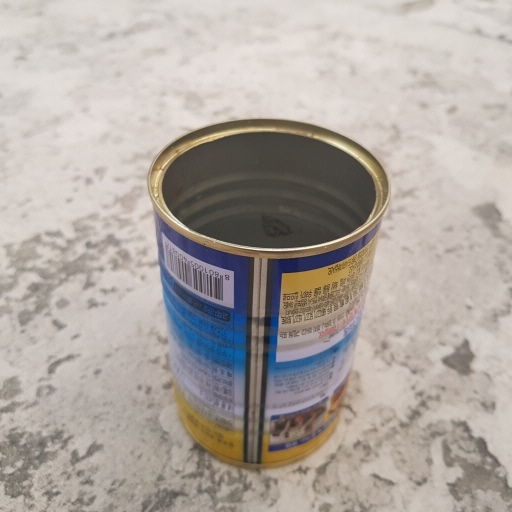Metal_1: (148, 115, 392, 472)
